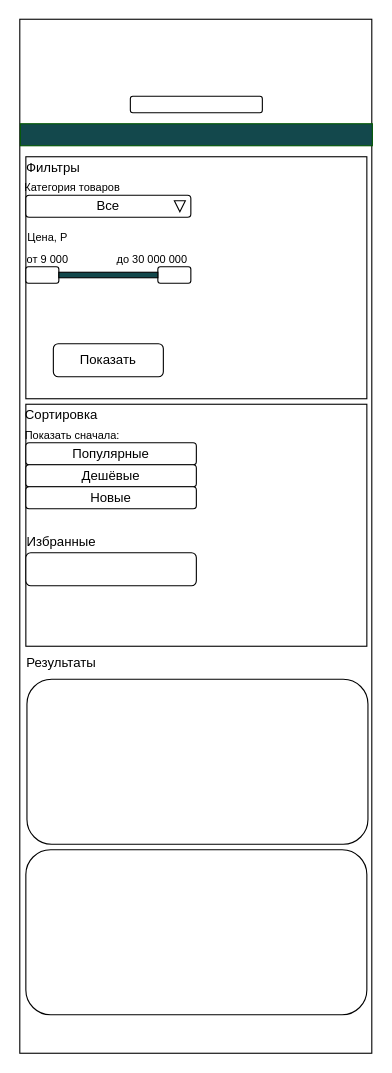
The diagram is 392 pixels wide and 1073 high, and some of its shapes have lost their labels. Each missing label, with the centre of its shape:
(Сердце) Показать: the point at 110,569
XS <= 576px: the point at 195,104
